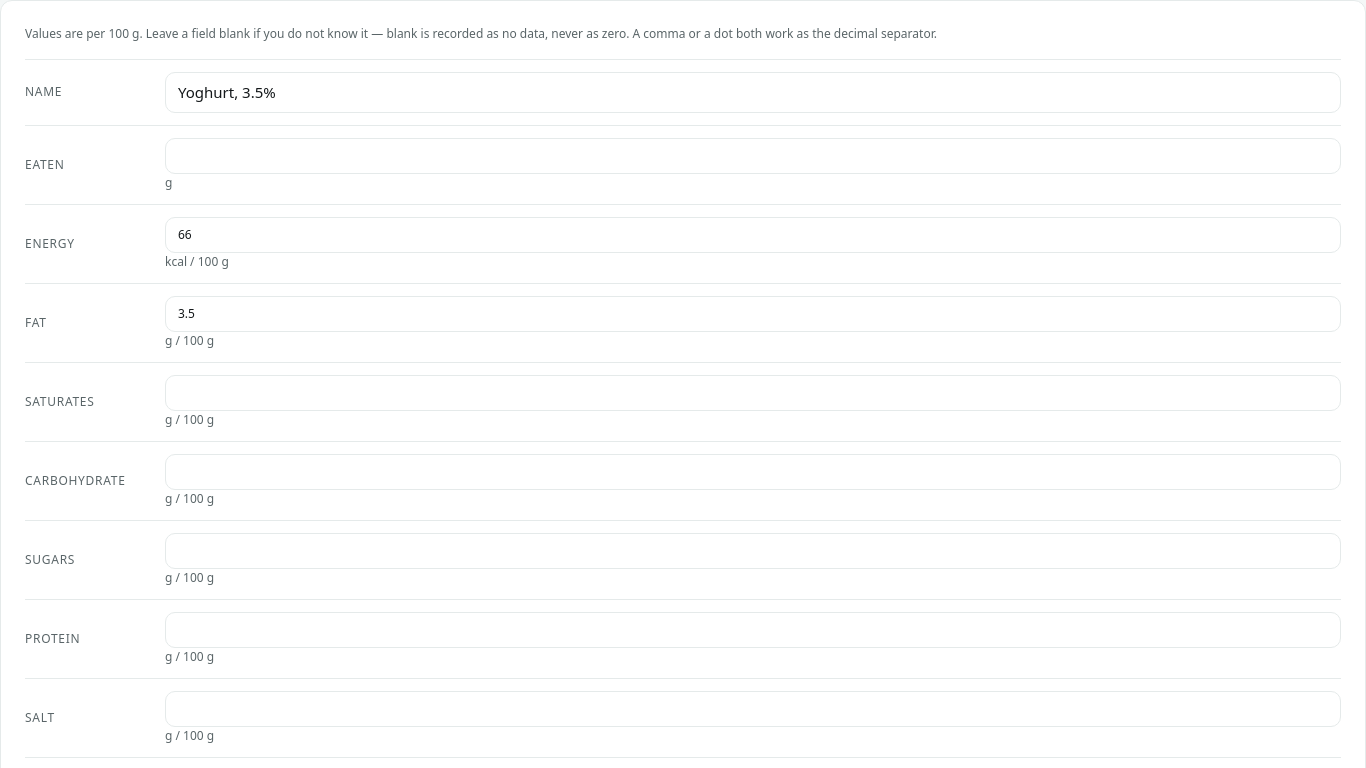
it: FoodForm, started from a food › allows a correction to keep the name
Replace the text in the field with id "food-energy" with "70": (753, 234) [165,216,1341,252]
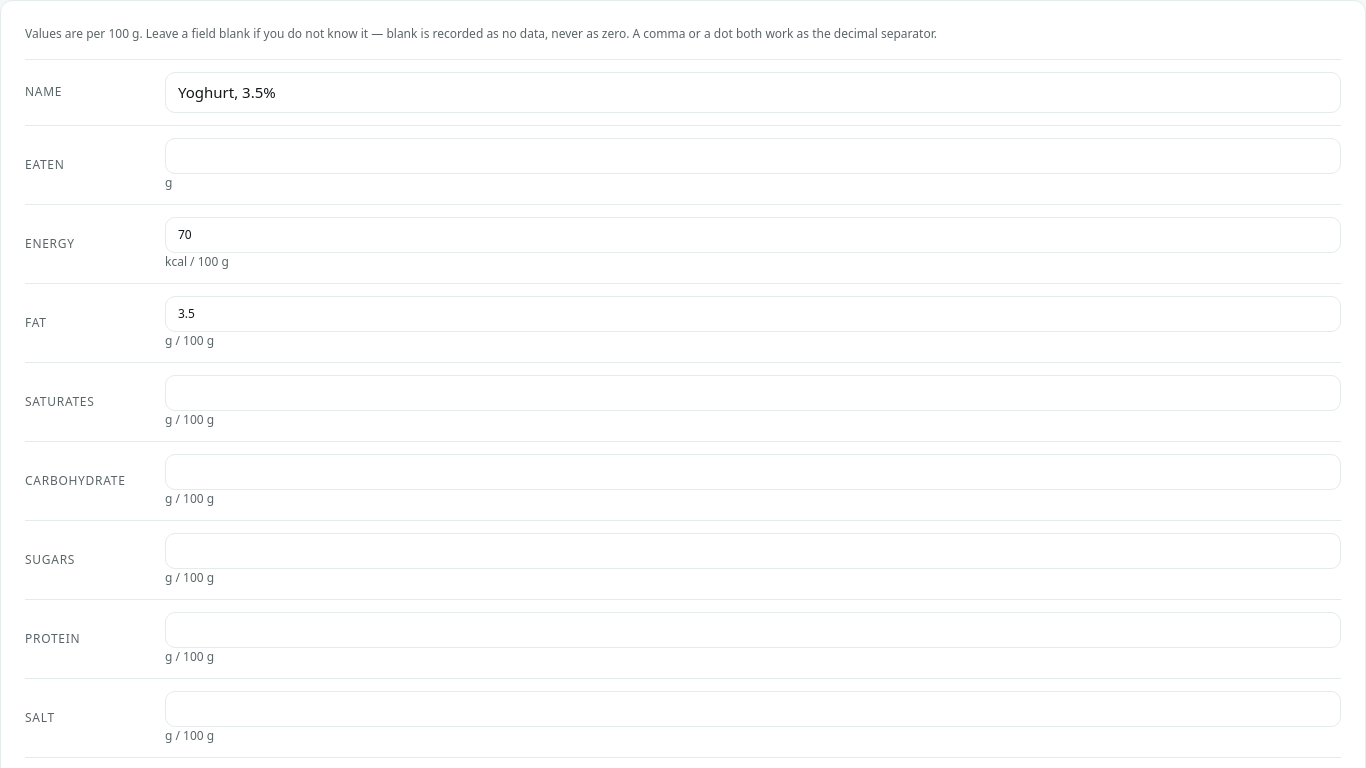
In the field with id "food-grams": (753, 156) [165,138,1341,174], type "150"
(page scrolled)
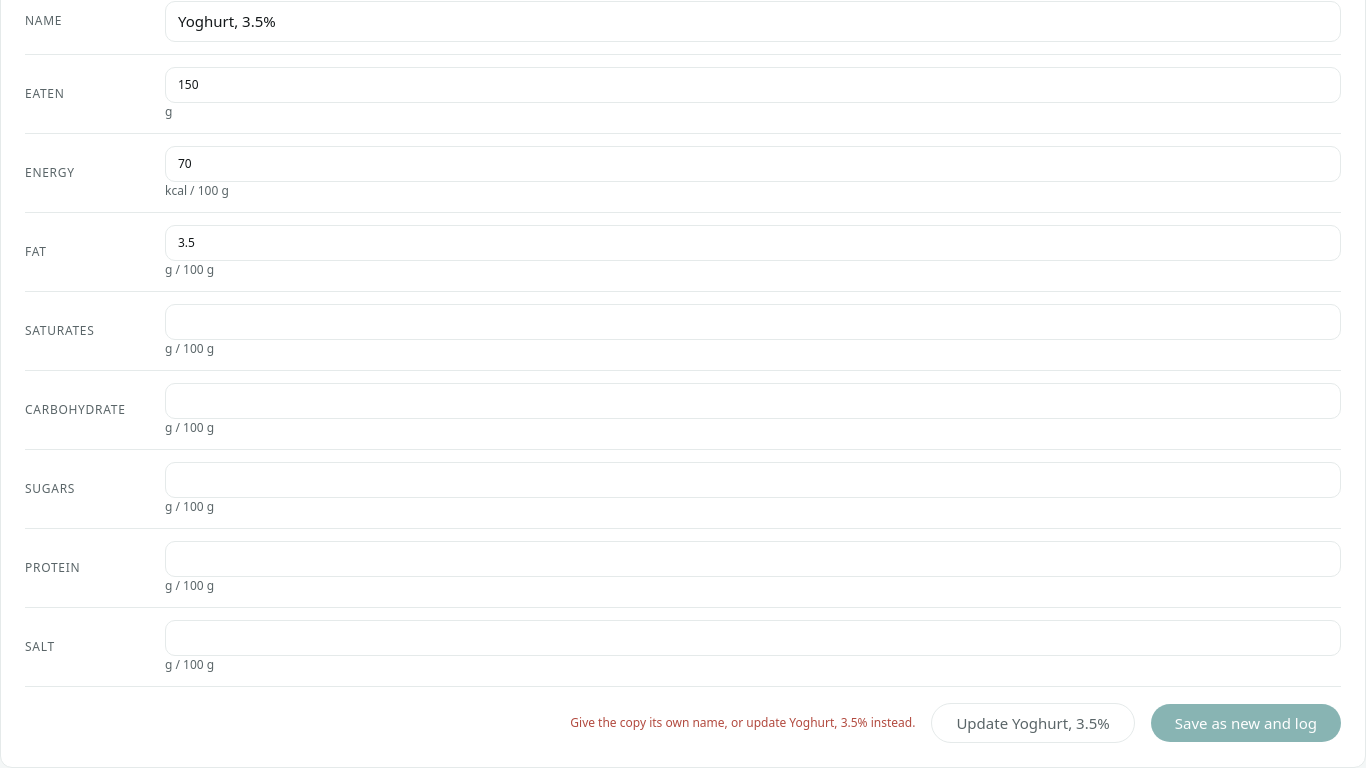
Result: the button with class "ghost" is enabled at [931,702,1135,743]
